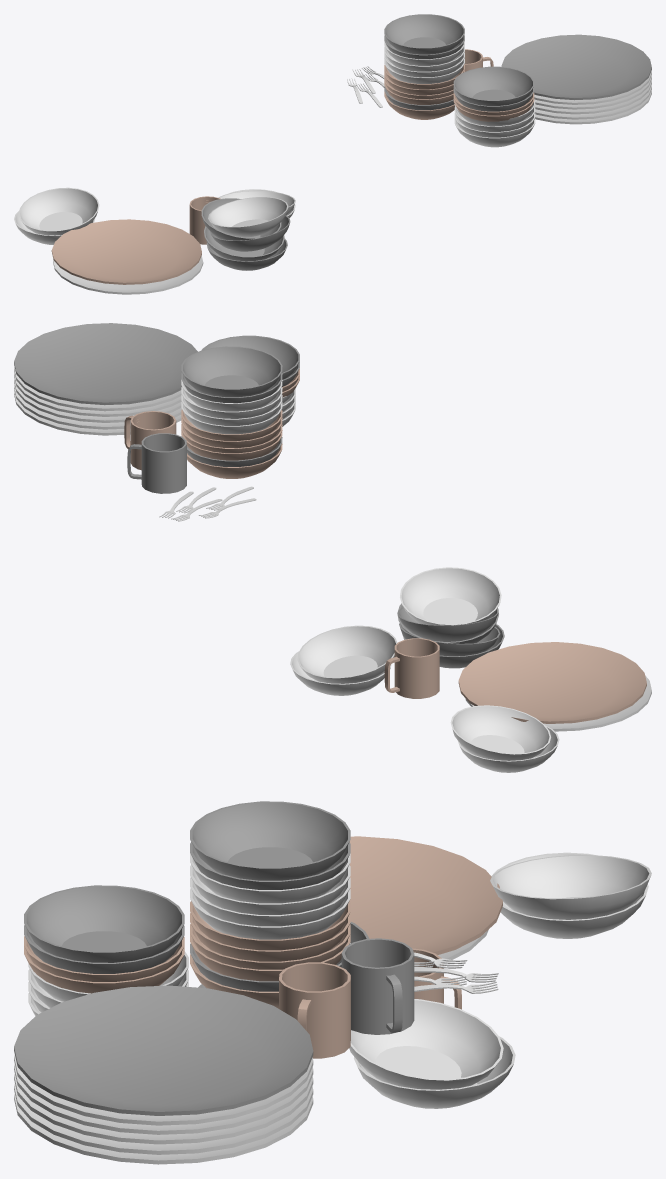
File: dishes4.gltf
3 renders of one model, top to bottom at view 1: azimuth 30°, elevation 25°; view 2: azimuth 150°, elevation 25°; view 3: azimuth 270°, elevation 25°, orthographic. The views are drawn at different scales.
Visible parts, largest first — view 1: dishes; view 2: dishes; view 3: dishes.
Part boxes in pixels (x1,y1,x2,y2): dishes: [14, 14, 651, 294]; dishes: [14, 323, 651, 772]; dishes: [14, 801, 651, 1164].
Size of the model in its own units: 1.27 by 0.4332 by 0.6596.
